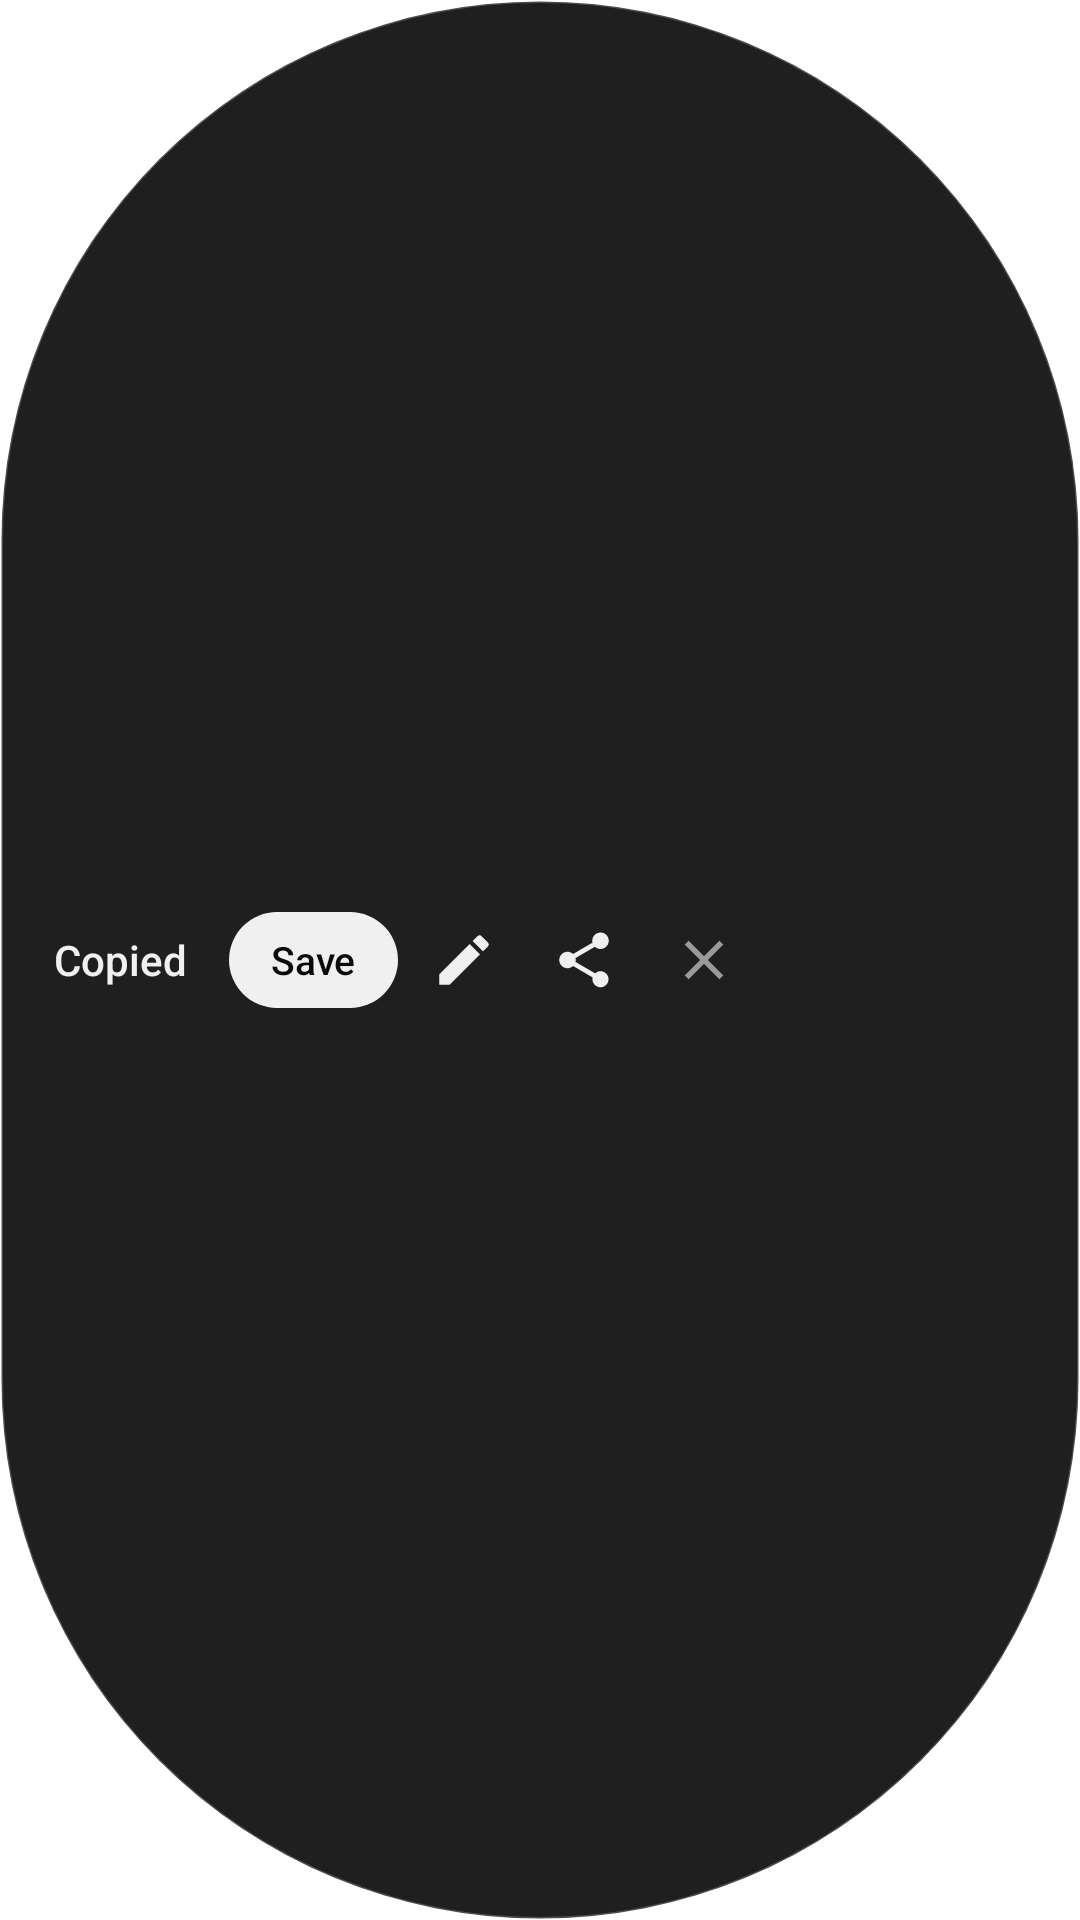

Named icons in this screenshot (1080 x 1920) and their centers, [x,y]:
Dismiss: [704,960]
edit: [464,960]
Share: [584,960]
